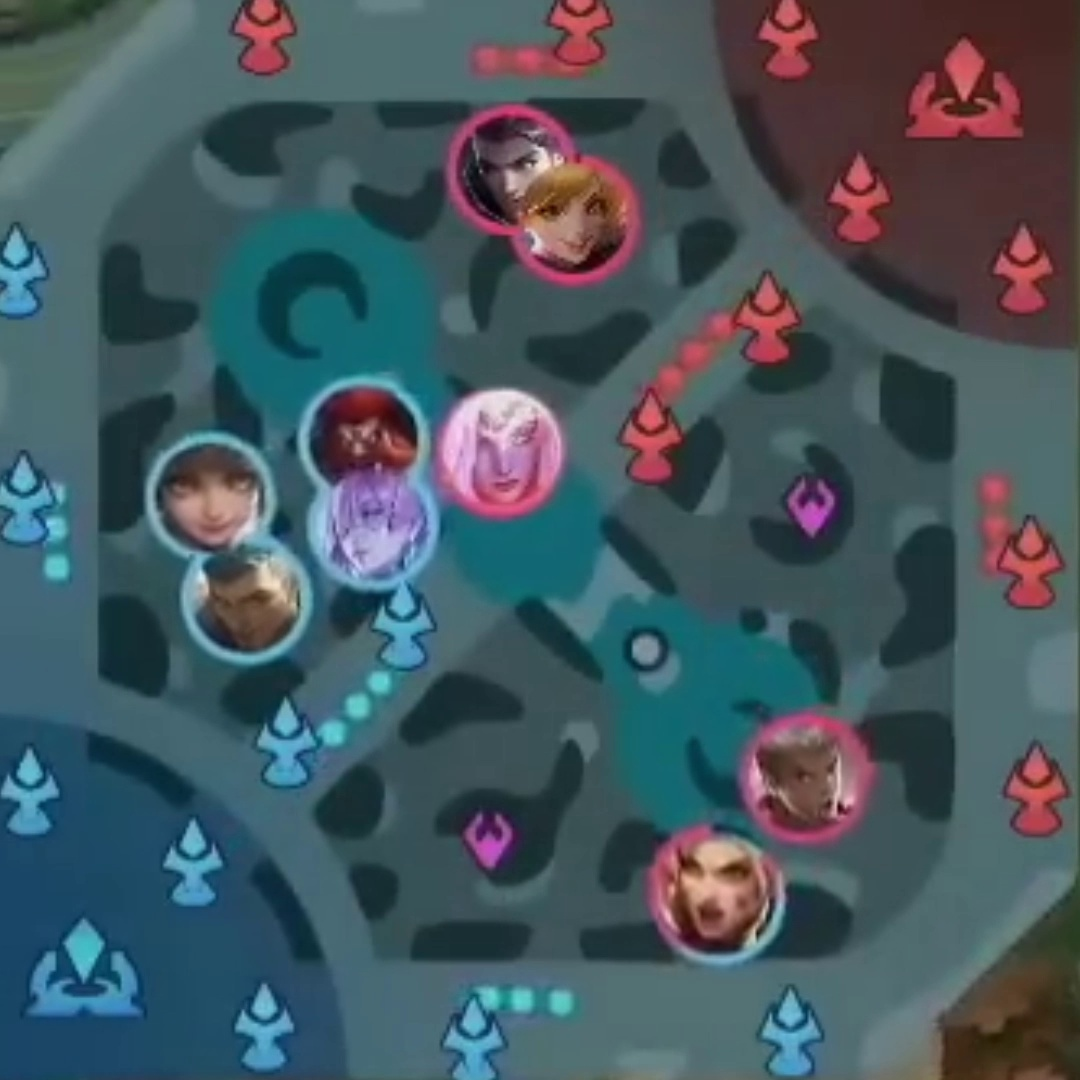Chou: (754, 724, 861, 838)
Claude: (461, 116, 556, 214)
Fanny: (526, 167, 611, 267)
Fredrinn: (194, 551, 299, 651)
Masha: (663, 836, 773, 945)
Minotaur: (312, 386, 414, 478)
Novaria: (320, 486, 430, 574)
Valentina: (446, 393, 563, 507)
Wanwan: (163, 446, 264, 553)
